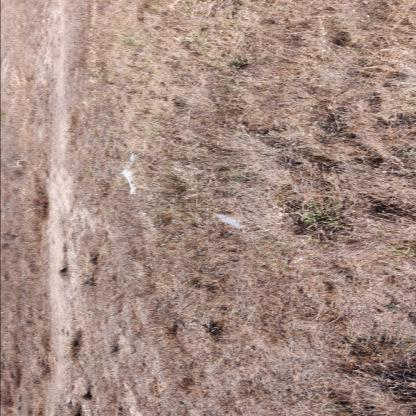Other plastic: (214, 213, 242, 230)
Unlabeled litter: (120, 154, 136, 194)
